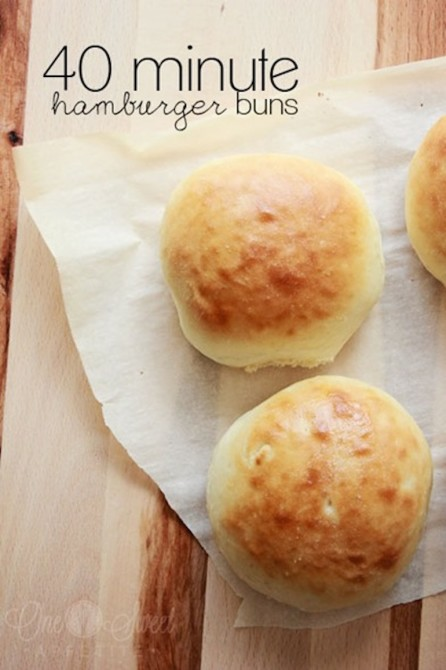hamburger_buns: (199, 368, 437, 614), (151, 143, 393, 380)
